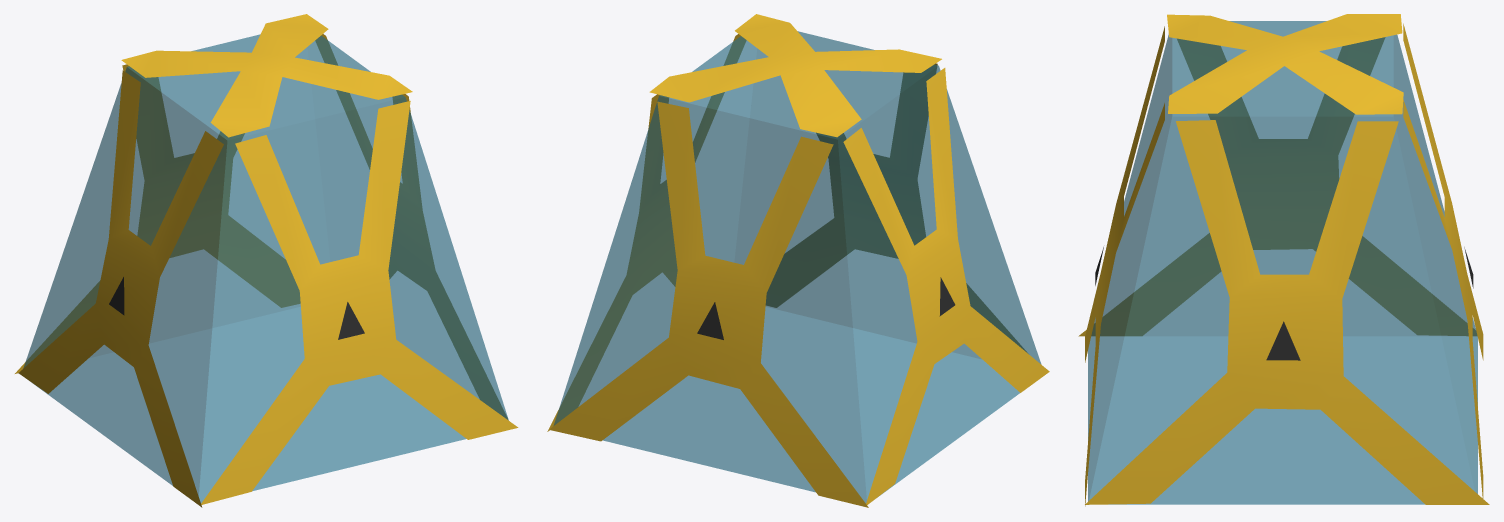
Rendered from safe.fbx.
The picture shows the model from 3 angles, left to right: view 1: azimuth 30°, elevation 25°; view 2: azimuth 150°, elevation 25°; view 3: azimuth 270°, elevation 25°; orthographic projection. The views are drawn at different scales.
Visible parts, largest first — view 1: Box01, Line01, Line04, Line08, Line09, Line06; view 2: Box01, Line08, Line04, Line01, Line09, Line06; view 3: Box01, Line06, Line04, Line09, Line01, Line08, Line05.
Boxes of the visible parts, box(x1,y1,x2,y2) form: Box01: box(23, 34, 508, 502); Line01: box(201, 101, 518, 504); Line04: box(18, 70, 223, 507); Line08: box(15, 64, 300, 373); Line09: box(121, 14, 412, 137); Line06: box(315, 34, 507, 419); Box01: box(553, 31, 1040, 502); Line08: box(550, 101, 868, 507); Line04: box(843, 68, 1049, 504); Line01: box(766, 63, 1026, 351); Line09: box(649, 14, 941, 137); Line06: box(547, 34, 746, 431); Box01: box(1088, 21, 1477, 504); Line06: box(1085, 120, 1489, 504); Line04: box(1078, 37, 1476, 336); Line09: box(1167, 14, 1403, 114); Line01: box(1085, 26, 1164, 506); Line08: box(1403, 23, 1483, 498); Line05: box(1266, 321, 1300, 360).
Size of the model in its own units: 118 by 118 by 119.
